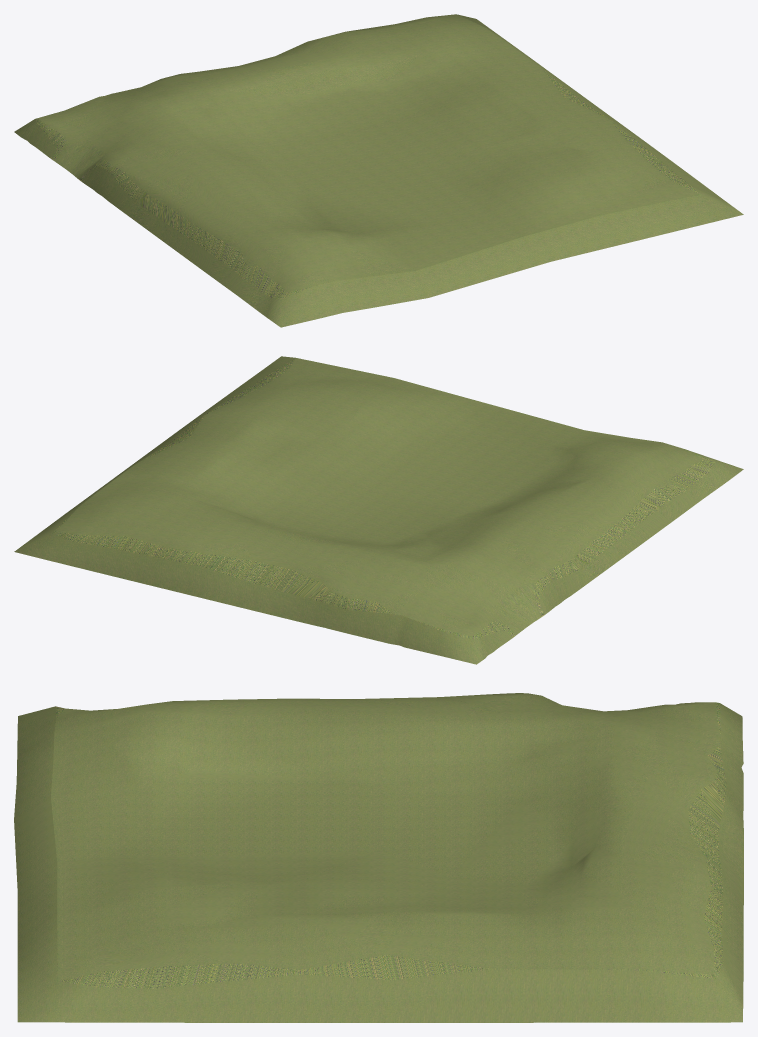
Rendered from forestfloor.fbx.
3 views of the same model, one above another, from view 1: azimuth 30°, elevation 25°; view 2: azimuth 150°, elevation 25°; view 3: azimuth 270°, elevation 25° (orthographic). The views are drawn at different scales.
Visible parts, largest first — view 1: Plane; view 2: Plane; view 3: Plane.
Boxes of the visible parts, x1,y1,x2,y2 form: Plane: (14,14,743,327); Plane: (14,356,743,664); Plane: (14,693,743,1022).
Bounding box in the file's own units: 2192 × 205 × 2203.
Materials: 1 (1 with a texture image).
